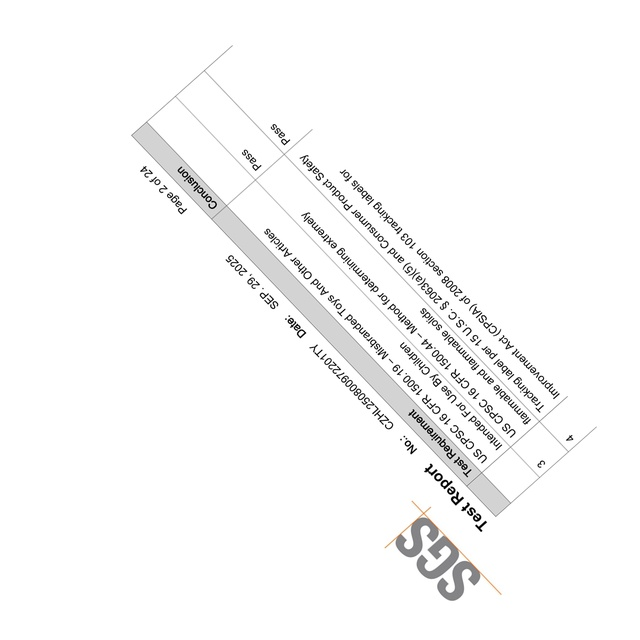sgs: (394, 516, 481, 603)
